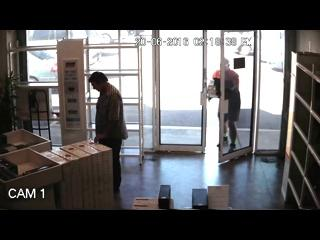Normal: (88, 72, 128, 194), (211, 58, 241, 154)
